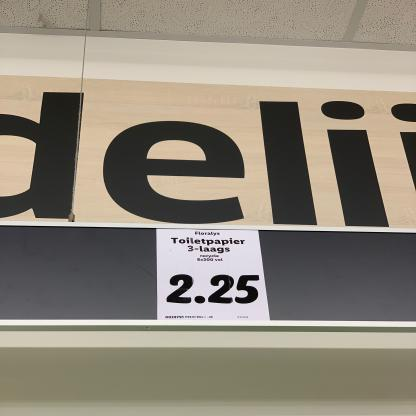prtg: (157, 230, 271, 321)
